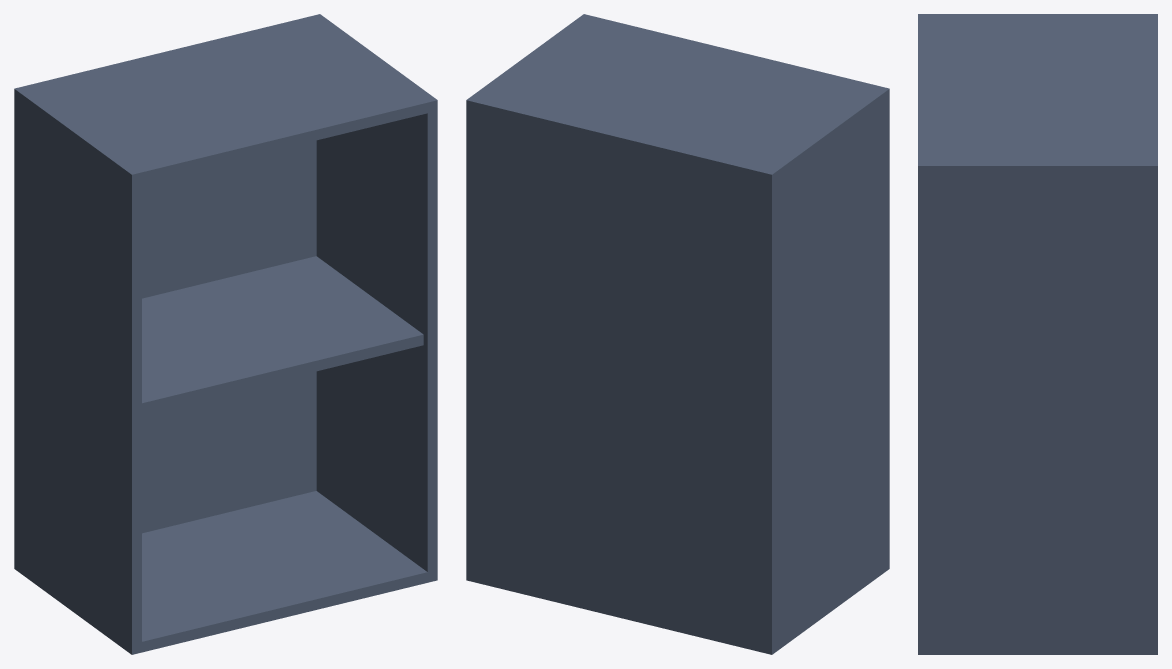
The model's file is Kitchen1_C4_08.fbx.
3 views of the same model, side by side, from view 1: azimuth 30°, elevation 25°; view 2: azimuth 150°, elevation 25°; view 3: azimuth 270°, elevation 25° (orthographic).
Parts seen in each view (by area): view 1: Kitchen1_C4_08; view 2: Kitchen1_C4_08; view 3: Kitchen1_C4_08.
Part boxes in pixels (x1,y1,x2,y2): Kitchen1_C4_08: (14, 14, 437, 654); Kitchen1_C4_08: (466, 14, 889, 654); Kitchen1_C4_08: (918, 14, 1157, 654).
Size of the model in its own units: 60 by 90 by 40.
